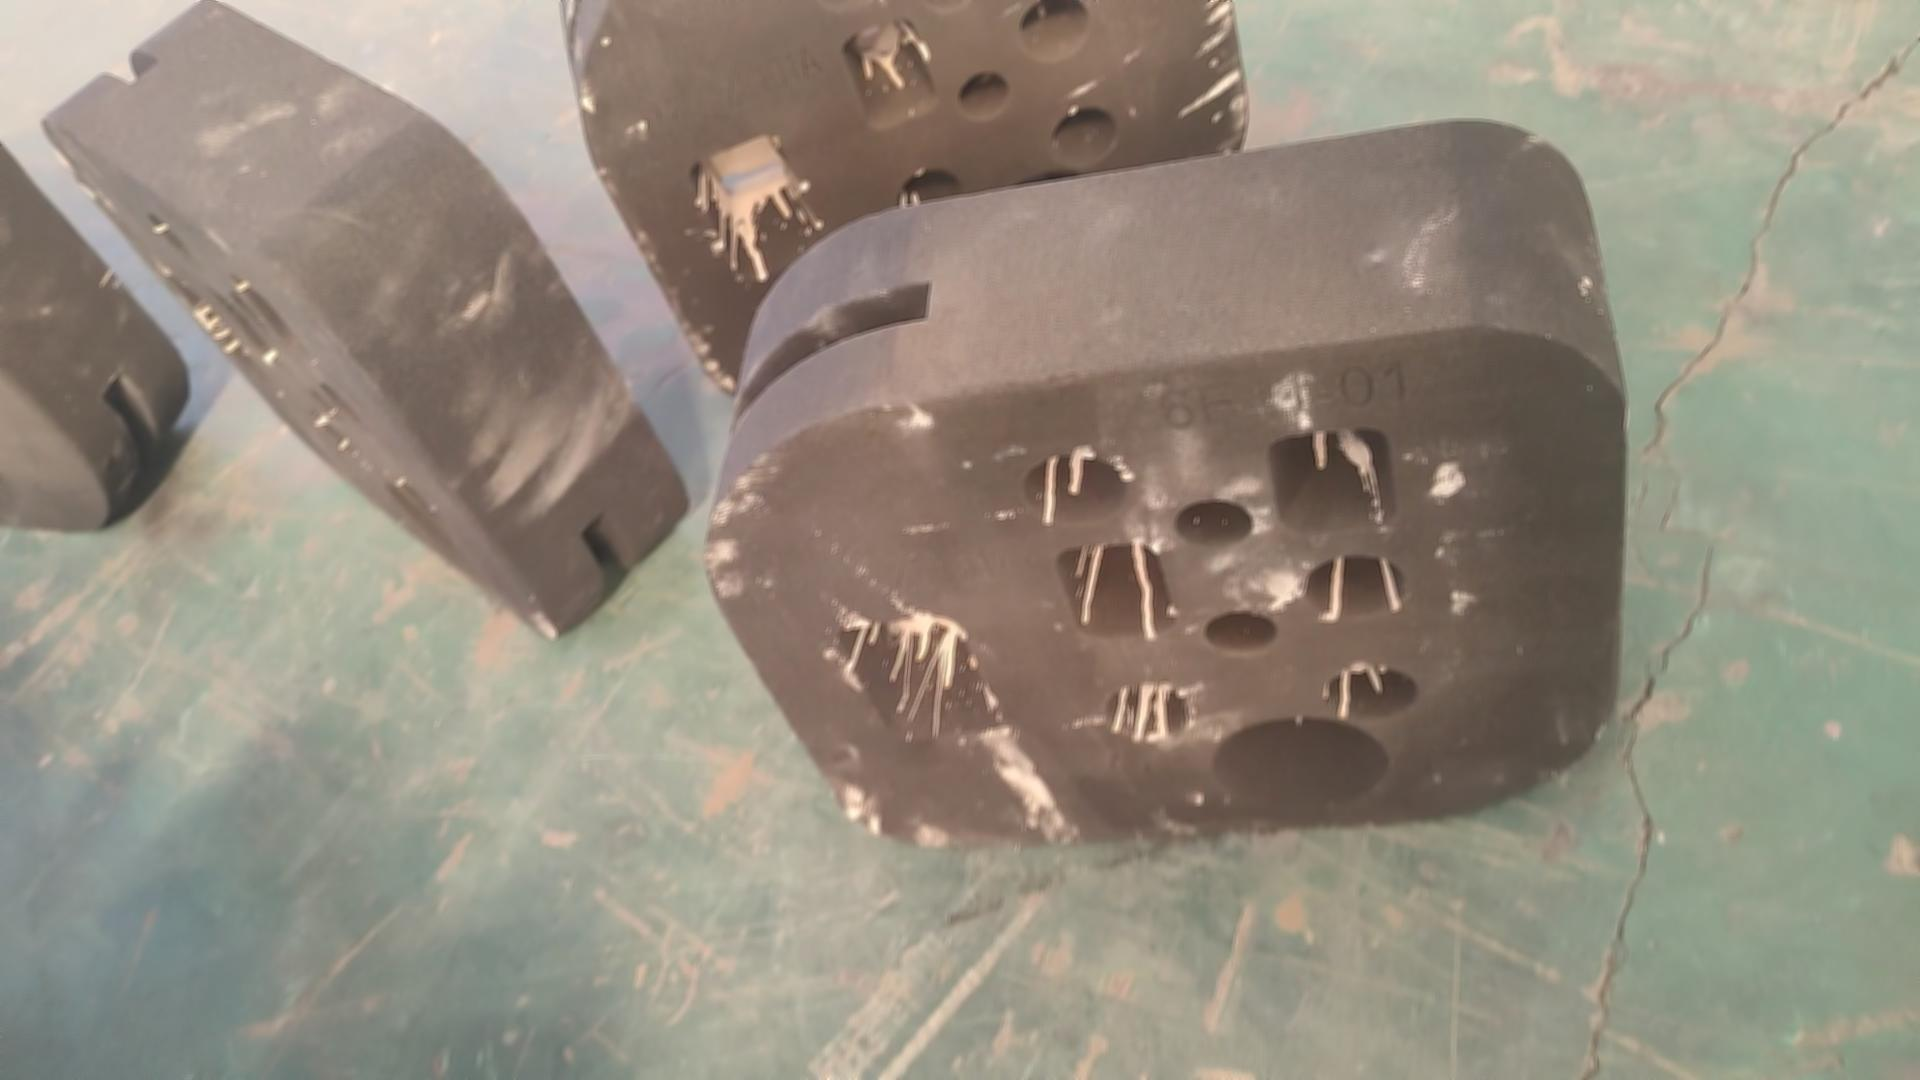pouring hole: (1211, 717, 1393, 815), (386, 479, 465, 571)
